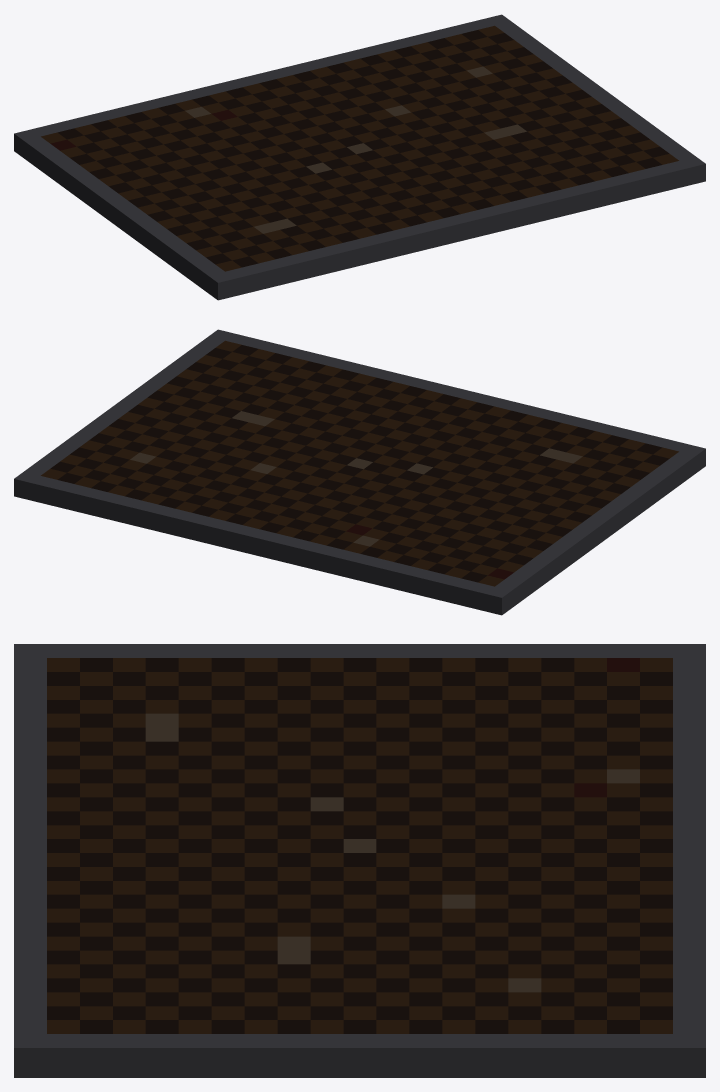
The model's file is hostel_floor.fbx.
3 renders of one model, top to bottom at view 1: azimuth 30°, elevation 25°; view 2: azimuth 150°, elevation 25°; view 3: azimuth 270°, elevation 25°, orthographic. The views are drawn at different scales.
Parts seen in each view (by area): view 1: VoxelMesh; view 2: VoxelMesh; view 3: VoxelMesh.
Part boxes in pixels (x1,y1,x2,y2): VoxelMesh: (14, 14, 705, 300); VoxelMesh: (14, 329, 705, 615); VoxelMesh: (14, 644, 705, 1077).
Size of the model in its own units: 29 by 1 by 21.
